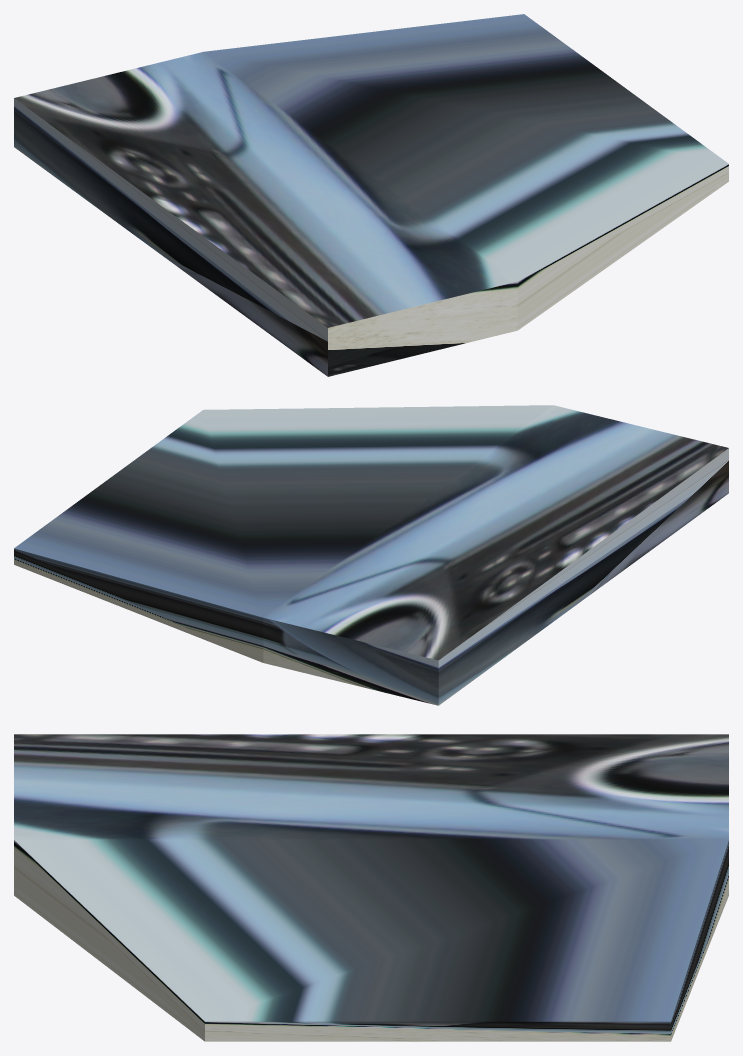
3 renders of one model, top to bottom at view 1: azimuth 30°, elevation 25°; view 2: azimuth 150°, elevation 25°; view 3: azimuth 270°, elevation 25°, orthographic. The views are drawn at different scales.
Parts seen in each view (by area): view 1: Wing-1.002_Cube.029; view 2: Wing-1.002_Cube.029; view 3: Wing-1.002_Cube.029.
Part boxes in pixels (x1,y1,x2,y2): Wing-1.002_Cube.029: (14,14,728,376); Wing-1.002_Cube.029: (14,405,728,705); Wing-1.002_Cube.029: (14,734,728,1041).
Size of the model in its own units: 5.71 by 0.5514 by 6.4.
